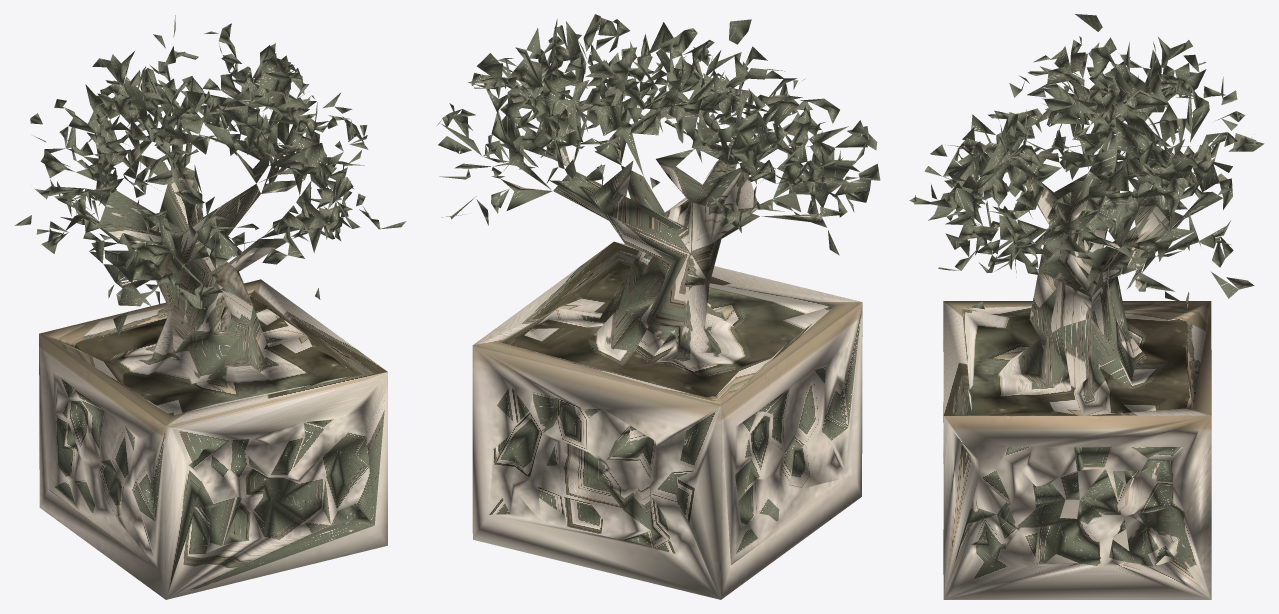
File: olive_tree.glb
The picture shows the model from 3 angles, left to right: view 1: azimuth 30°, elevation 25°; view 2: azimuth 150°, elevation 25°; view 3: azimuth 270°, elevation 25°; orthographic projection. The views are drawn at different scales.
Visible parts, largest first — view 1: Mesh_0; view 2: Mesh_0; view 3: Mesh_0.
Boxes of the visible parts, x1,y1,x2,y2 form: Mesh_0: [14, 15, 406, 599]; Mesh_0: [437, 14, 880, 599]; Mesh_0: [909, 14, 1264, 599].
Bounding box in the file's own units: 2.31 × 2.88 × 1.88.
Materials: 1 (1 with a texture image).
